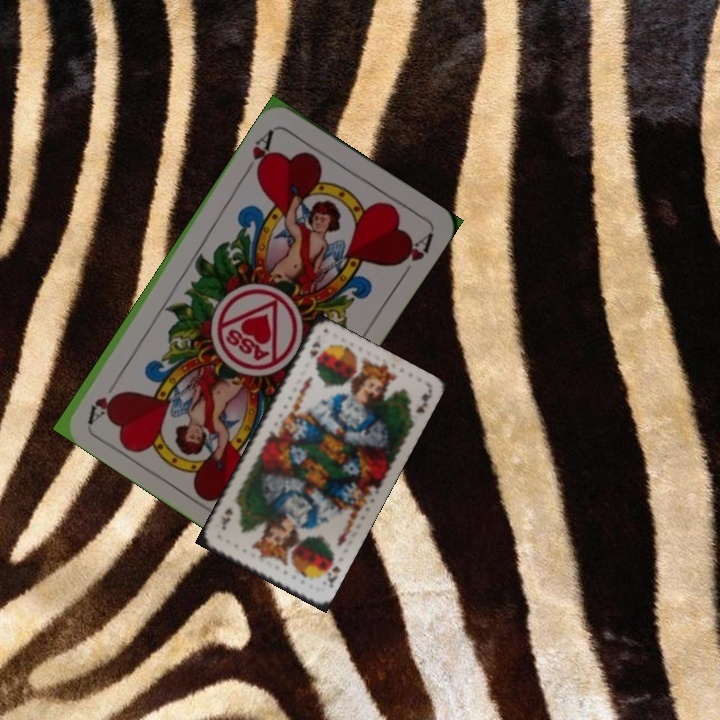HA: (247, 125, 277, 178)
SK: (321, 552, 343, 590), (305, 337, 323, 361)
